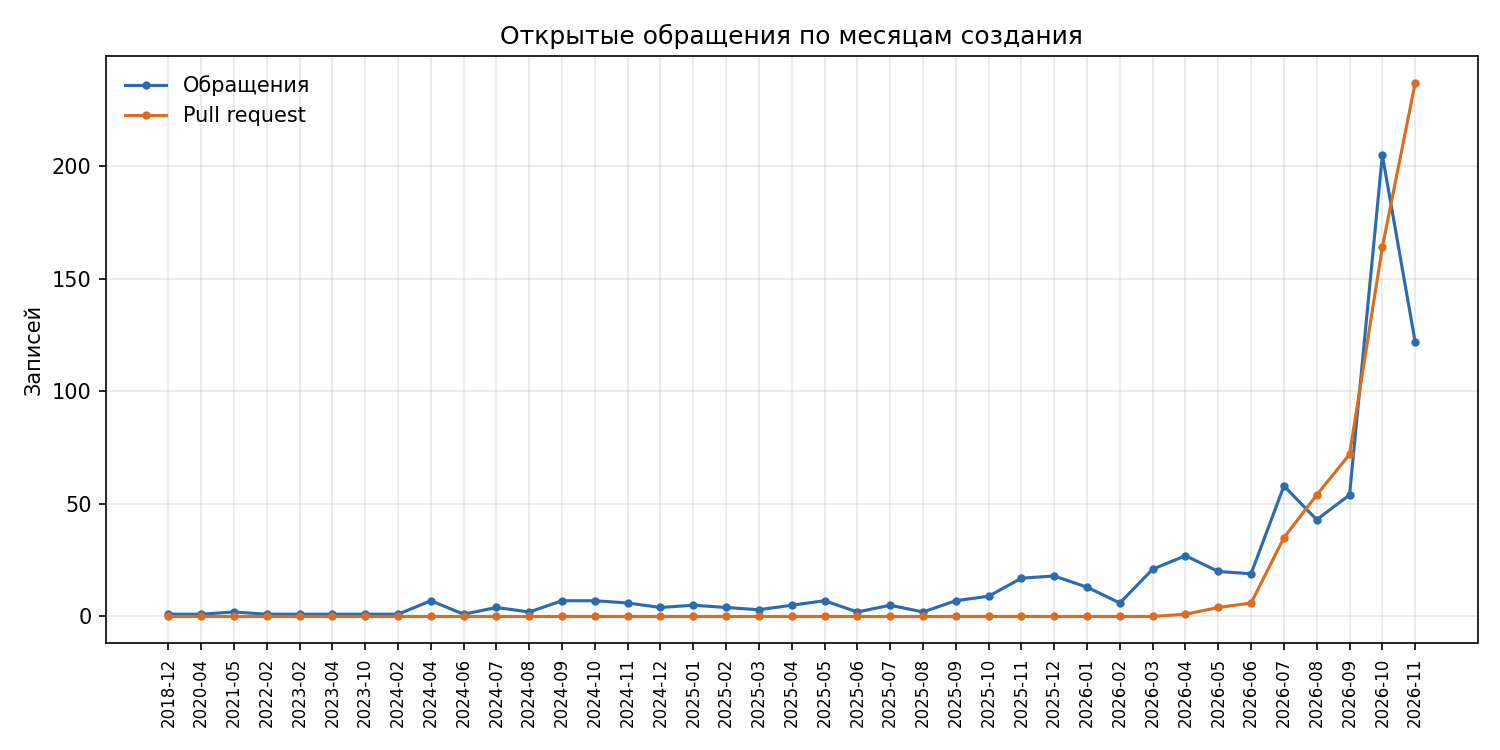

Layout of this report page (visuals, bound fields, positions):
{"tool":"powerbi","page":{"name":"Страница 1","canvas":[1920,1080],"ordinal":0},"visuals":[{"type":"lineChart","box":[10,0,280,280],"z":0}]}

Visuals, with their boxes on the page's 1920x1080 design canvas (x1, y1, x2, y2). These are canvas units, not pixel positions in the 1500x750 screenshot, which may show the page scaled, cropped or inside an application window:
lineChart: bbox=[10, 0, 290, 280]
